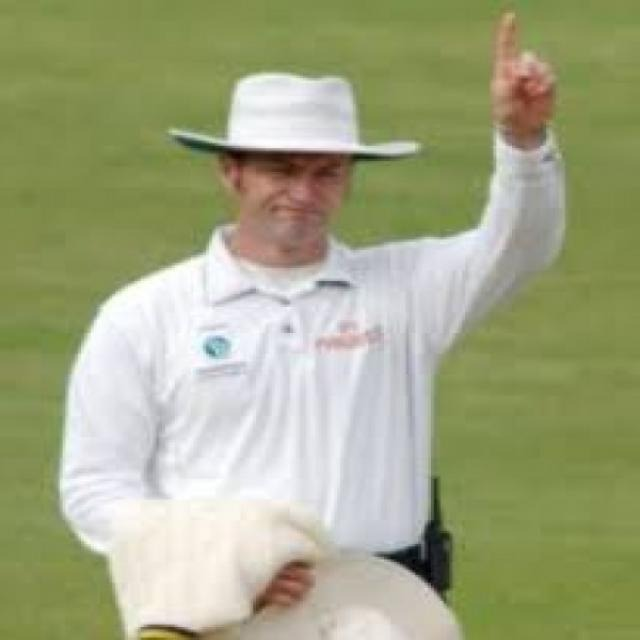Out: (50, 3, 575, 640)
